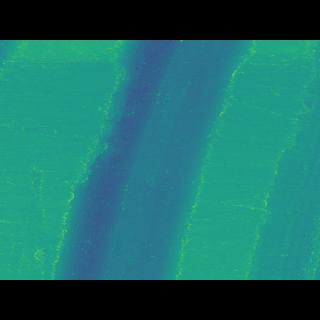Loch: (48, 70, 261, 249), (244, 97, 320, 249)
